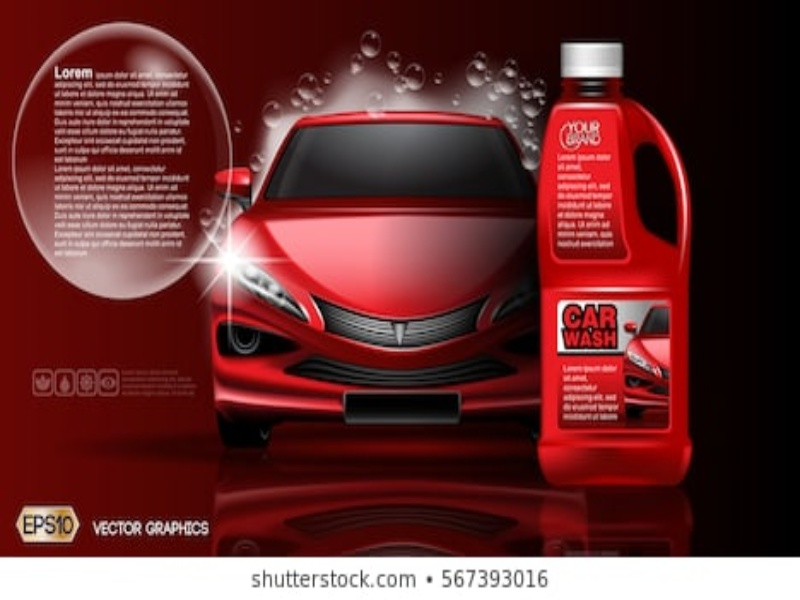bottle-cap: (555, 40, 630, 81)
detergent-bottle: (532, 38, 698, 494)
